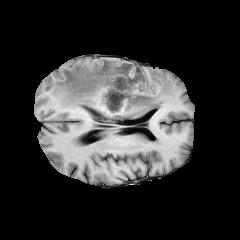glioma: (52, 60, 176, 119)
